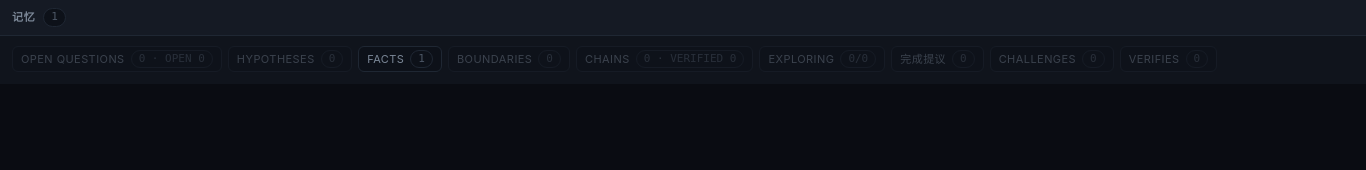
Test: MemoryPanel › drills down: category chip -> item row, then item -> full content
Click the button with aria-label "memory group facts" at point(400, 59), box [358,46,442,72]
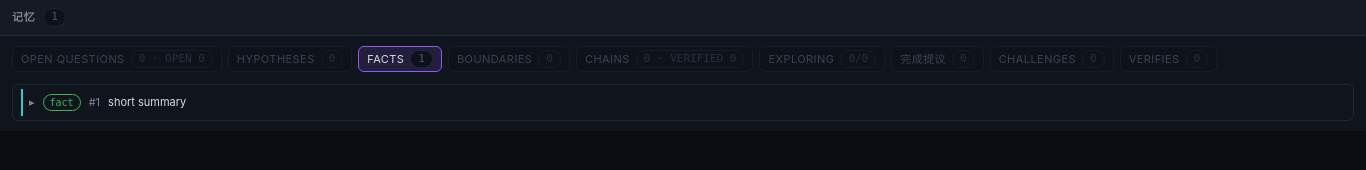
Check: the text "full fact body" is not shown
Check: the text "short summary" is shown, box [108,95,186,109]
Click the button with aria-label "memory item 1" at point(62, 102), box [23,89,1345,116]
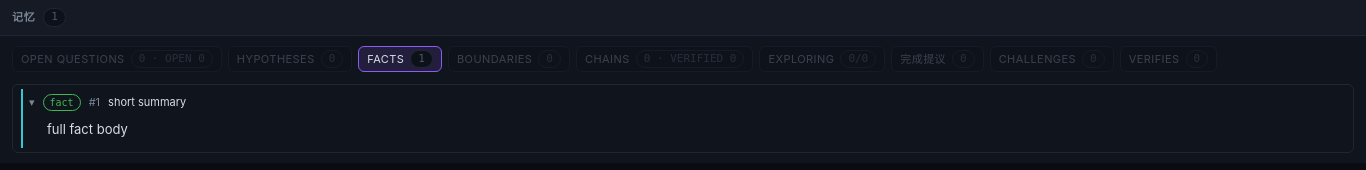
Check: the text "full fact body" is shown, box [47,121,128,137]
